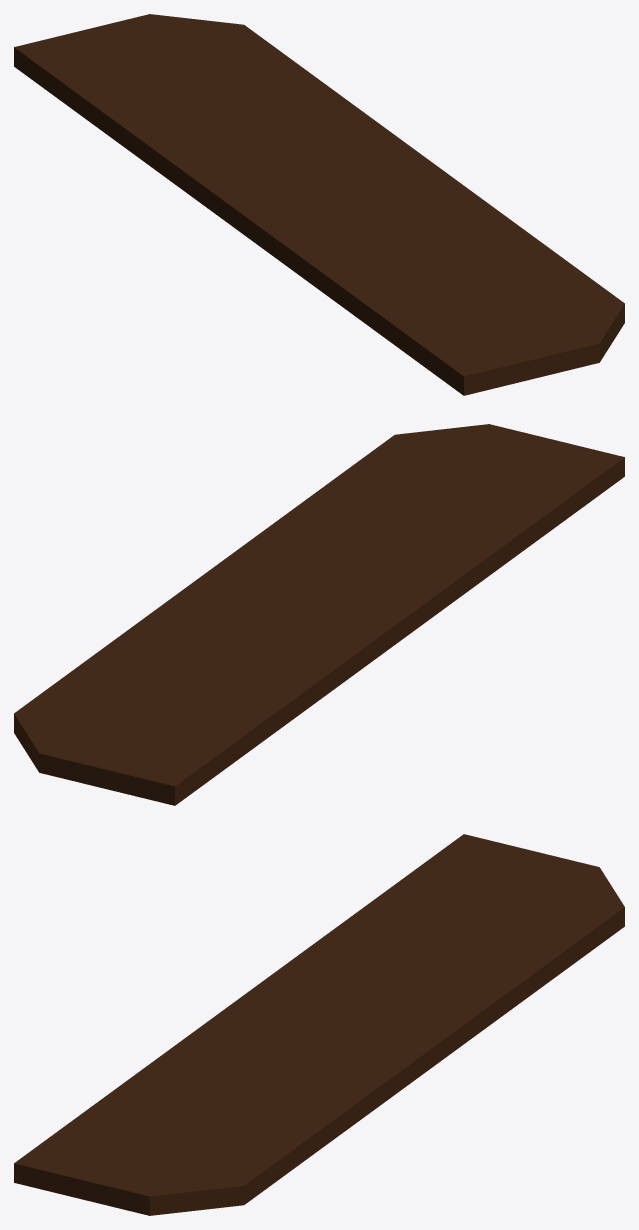
File: EtagereMur2.fbx
3 views of the same model, one above another, from view 1: azimuth 30°, elevation 25°; view 2: azimuth 150°, elevation 25°; view 3: azimuth 330°, elevation 25° (orthographic).
Parts seen in each view (by area): view 1: EtagereMur2; view 2: EtagereMur2; view 3: EtagereMur2.
Boxes of the visible parts, x1,y1,x2,y2 form: EtagereMur2: (14, 14, 624, 395); EtagereMur2: (14, 424, 624, 805); EtagereMur2: (14, 834, 624, 1215).
Size of the model in its own units: 35.01 by 3.32 by 139.
